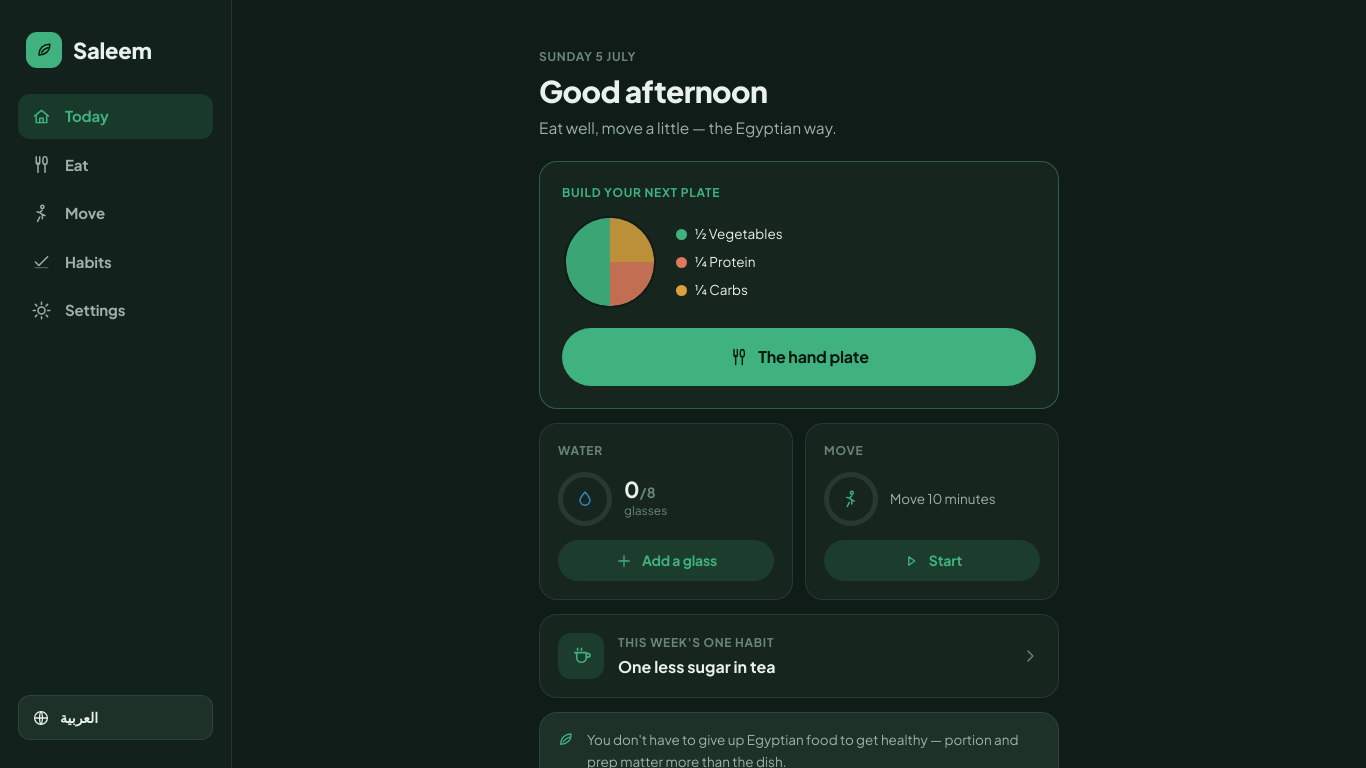
language toggle and RTL › flips documentElement lang/dir and swaps the copy
This screenshot has width=1366, height=768.
Check: the text "Today" is shown, box [65,105,109,128]
Note: The toggle's accessible name is the other language's endonym.
Click the button "العربية".
click(116, 718)  # box [18,695,213,740]
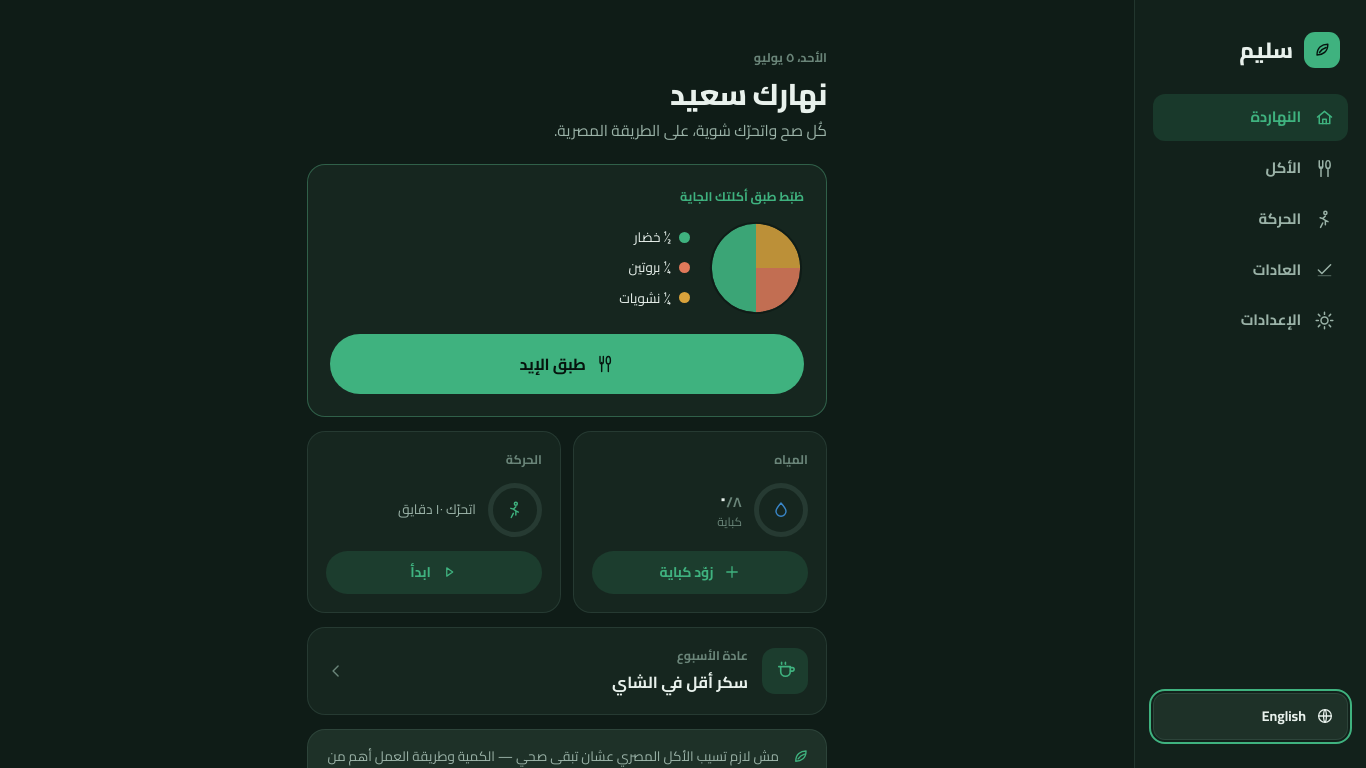
Check: the text "النهاردة" is shown, box [1250,105,1301,130]
